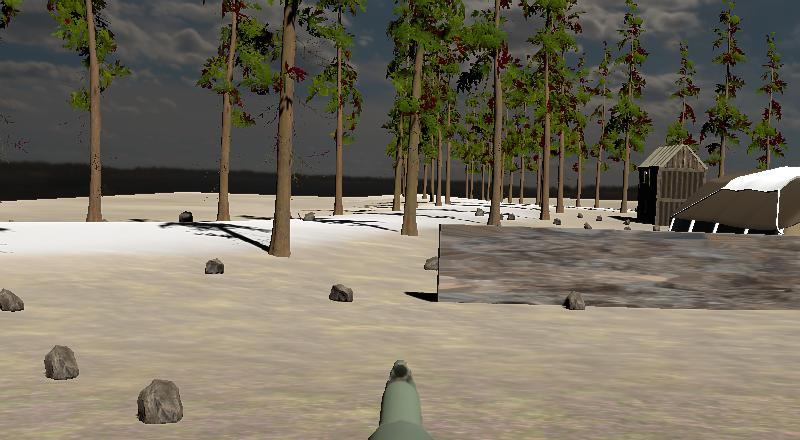House: (635, 141, 711, 229)
